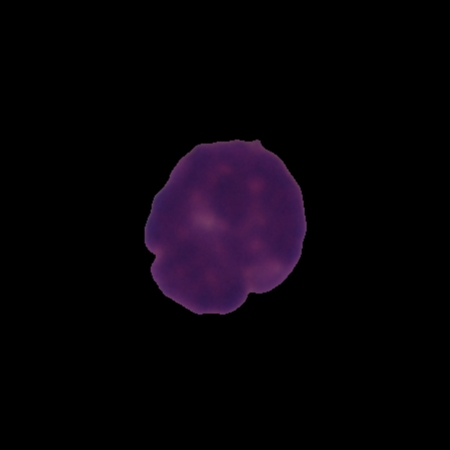HEM: (140, 136, 310, 317)
